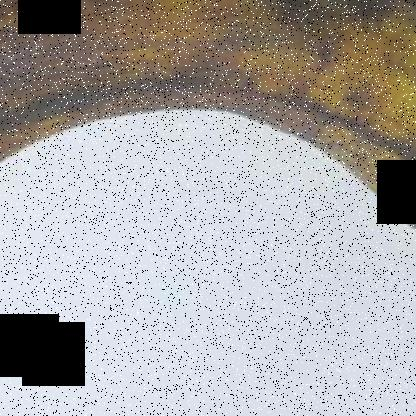overripe: (0, 1, 415, 260)
